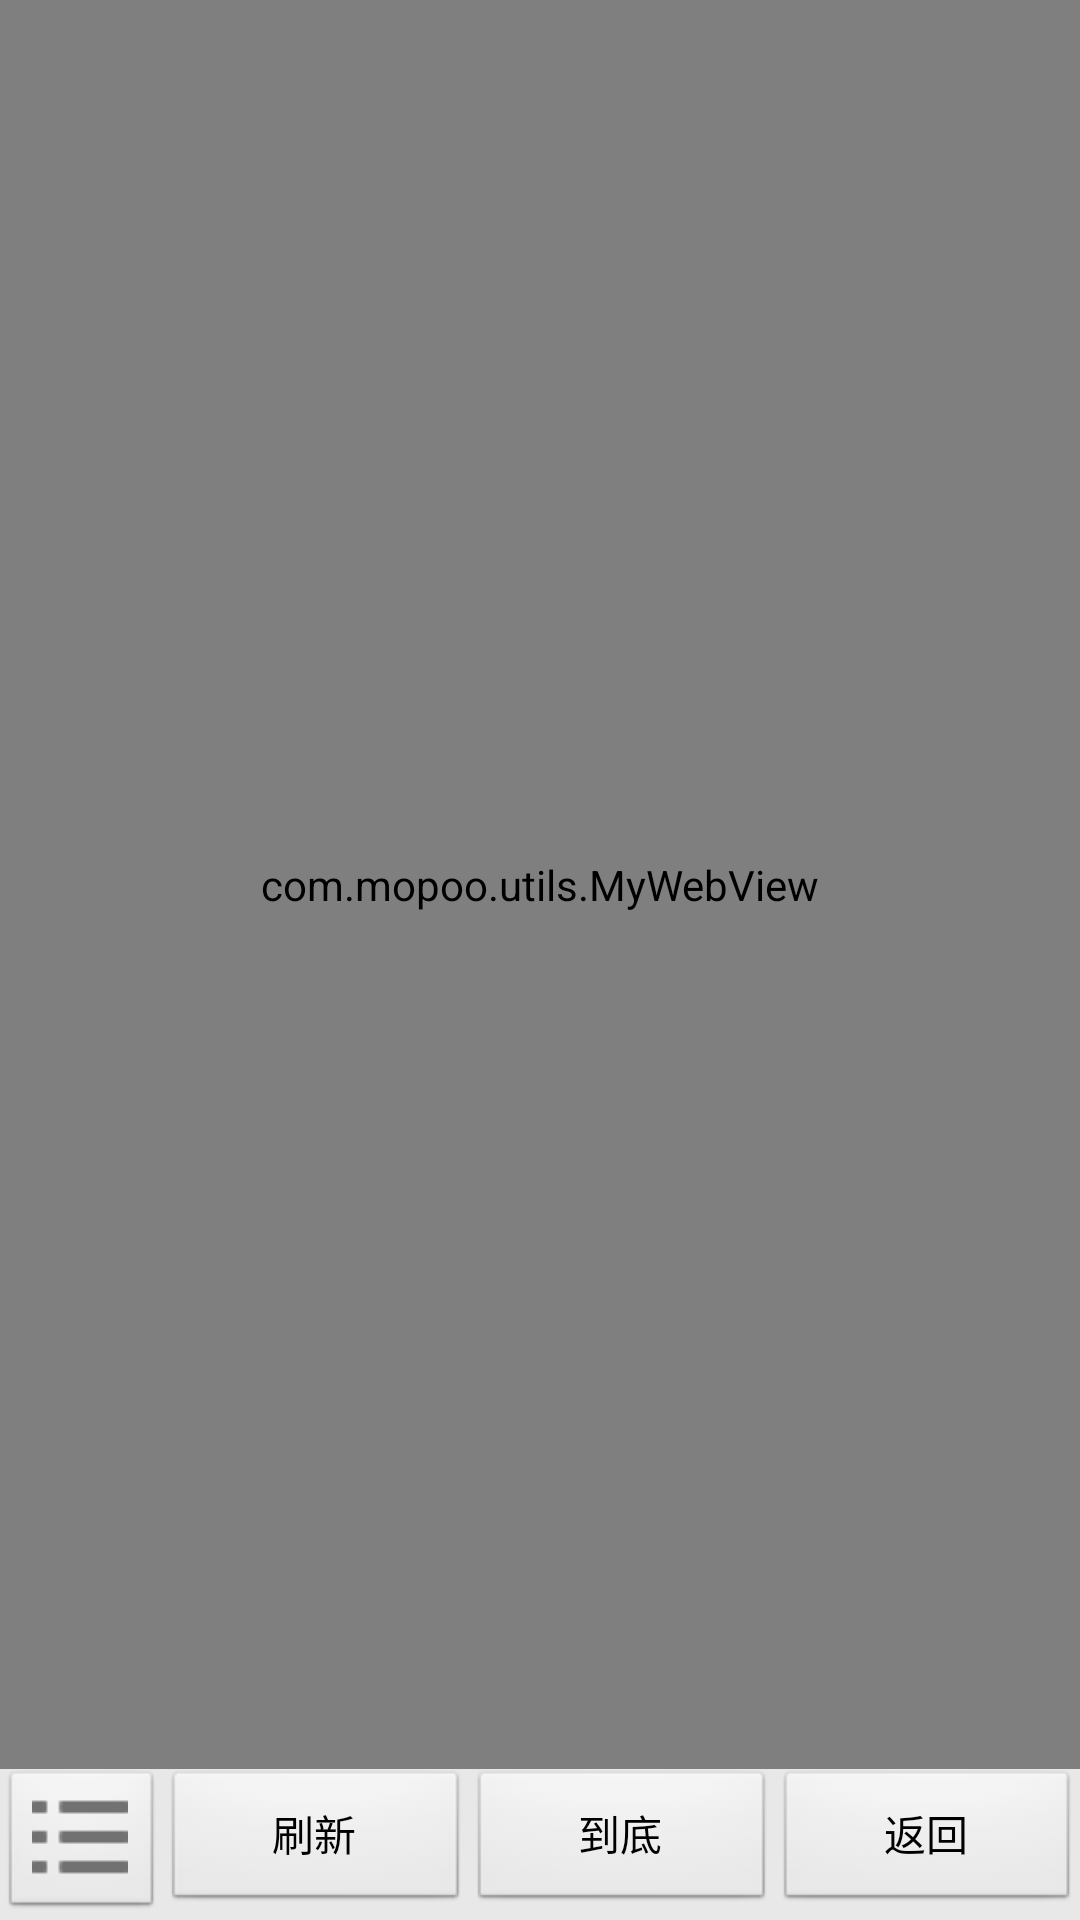

Named icons in this screenshot (1080*1920) and their centers, [x,y]:
menu: [81,1841]
